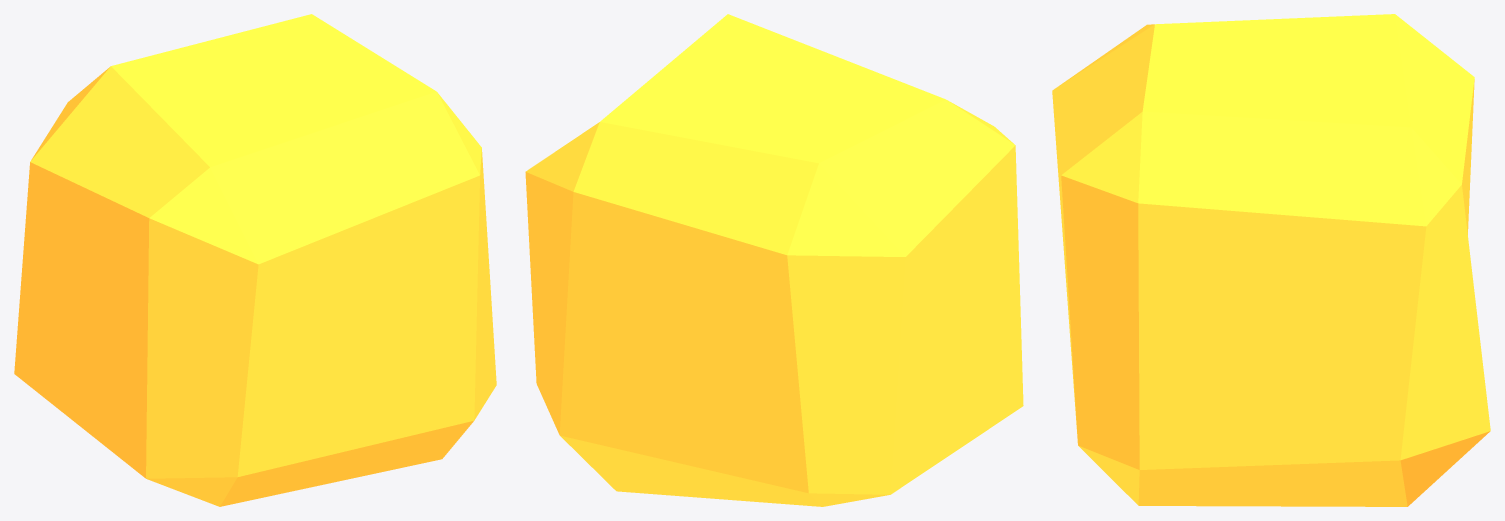
The model's file is FX_Flame_Chunk_Mid.fbx.
3 renders of one model, left to right at view 1: azimuth 30°, elevation 25°; view 2: azimuth 150°, elevation 25°; view 3: azimuth 270°, elevation 25°, orthographic. The views are drawn at different scales.
Visible parts, largest first — view 1: FX_Flame_Chunk_Mid; view 2: FX_Flame_Chunk_Mid; view 3: FX_Flame_Chunk_Mid.
Part boxes in pixels (x1=…): FX_Flame_Chunk_Mid: x1=14, y1=14, x2=496, y2=506; FX_Flame_Chunk_Mid: x1=525, y1=14, x2=1023, y2=506; FX_Flame_Chunk_Mid: x1=1052, y1=14, x2=1490, y2=506.
Size of the model in its own units: 0.2166 by 0.2167 by 0.2139.
